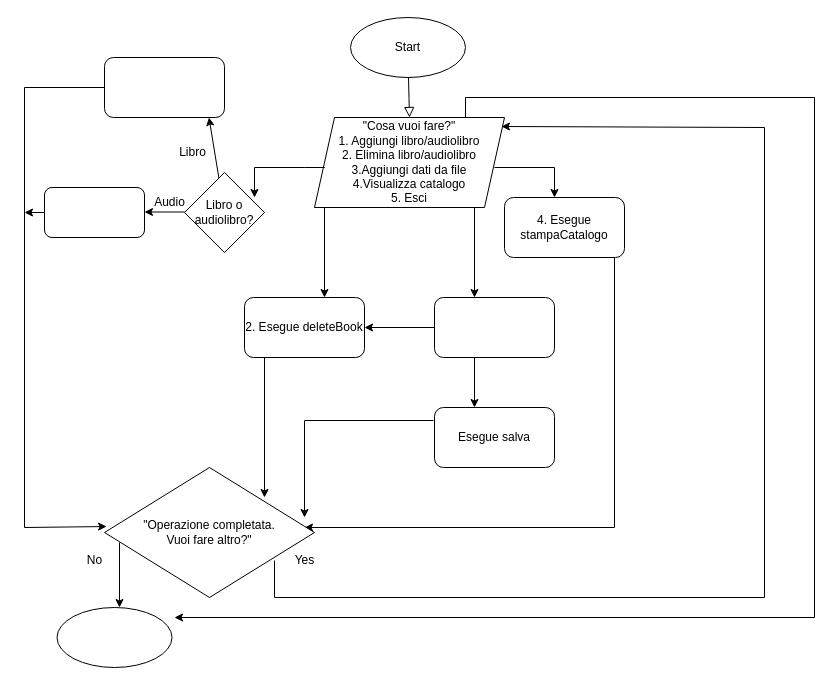
This 840x685 diagram has some shape labels left out. The centre of each missing label's shape, as x and y in pixels:
"3. Esegue leggiCatalogo" goes at pixel 494 327.
"Aggiunge audiolibro" goes at pixel 94 212.
"Aggiunge libro" goes at pixel 164 87.
"End" goes at pixel 114 637.
